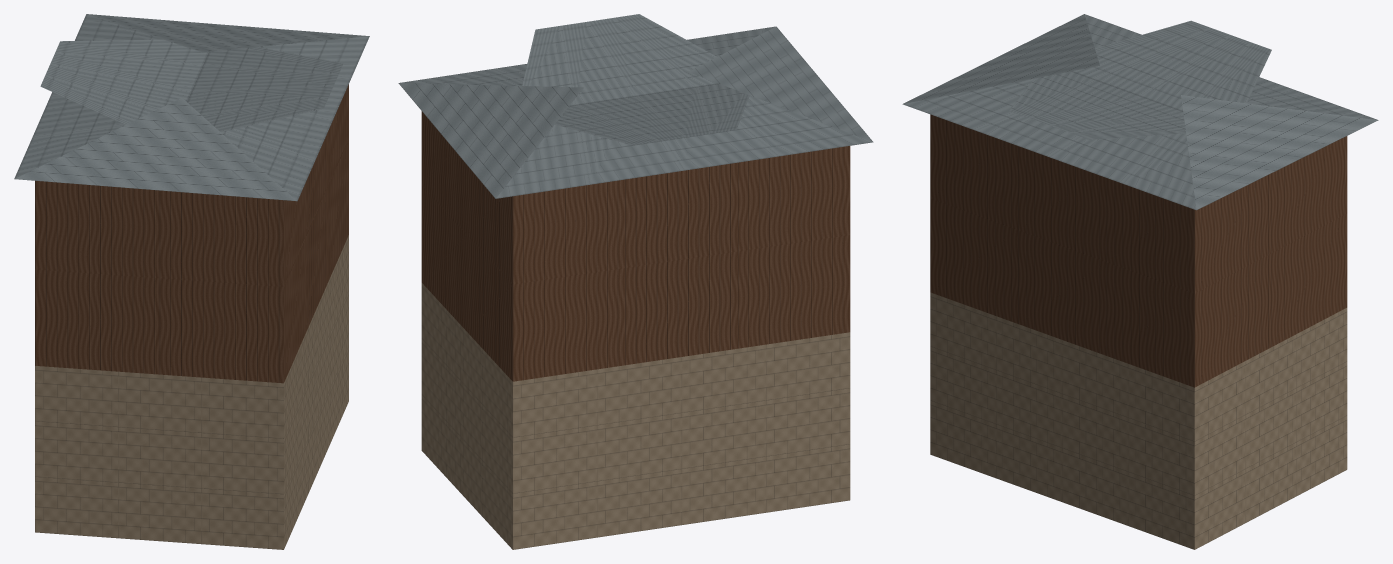
File: bld_c22_-49_543.gltf
3 renders of one model, left to right at view 1: azimuth 30°, elevation 25°; view 2: azimuth 150°, elevation 25°; view 3: azimuth 270°, elevation 25°, orthographic. The views are drawn at different scales.
Parts seen in each view (by area): view 1: bld_c22_-49_543; view 2: bld_c22_-49_543; view 3: bld_c22_-49_543.
Boxes of the visible parts, x1,y1,x2,y2 form: bld_c22_-49_543: (14, 14, 369, 549); bld_c22_-49_543: (398, 14, 873, 549); bld_c22_-49_543: (902, 14, 1378, 549).
Size of the model in its own units: 13.24 by 12 by 13.57.
Materials: 3 (3 with a texture image).
